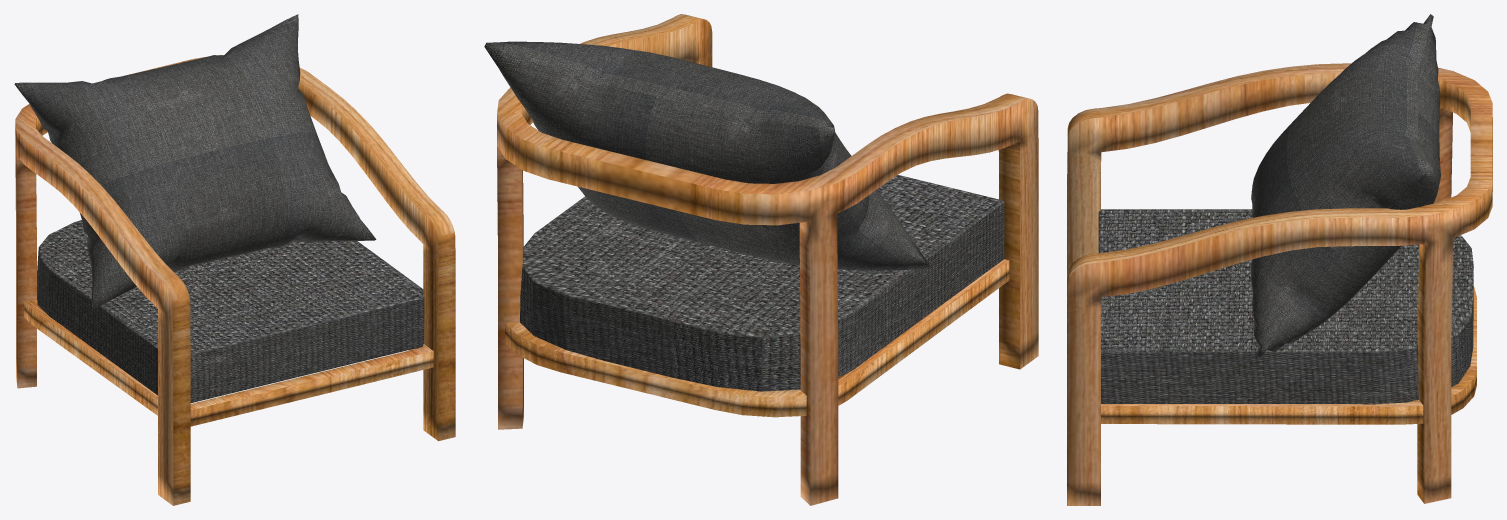
The model's file is Стул1.glb.
3 renders of one model, left to right at view 1: azimuth 30°, elevation 25°; view 2: azimuth 150°, elevation 25°; view 3: azimuth 270°, elevation 25°, orthographic. The views are drawn at different scales.
Parts seen in each view (by area): view 1: подушка, каркас; view 2: подушка, каркас; view 3: подушка, каркас.
Part boxes in pixels (x1,y1,x2,y2): подушка: [14, 14, 424, 402]; каркас: [15, 55, 455, 505]; подушка: [484, 41, 1004, 391]; каркас: [497, 14, 1038, 505]; подушка: [1098, 14, 1473, 404]; каркас: [1067, 63, 1492, 505].
Size of the model in its own units: 2.97 by 2.99 by 3.39.
Materials: 3 (3 with a texture image).
